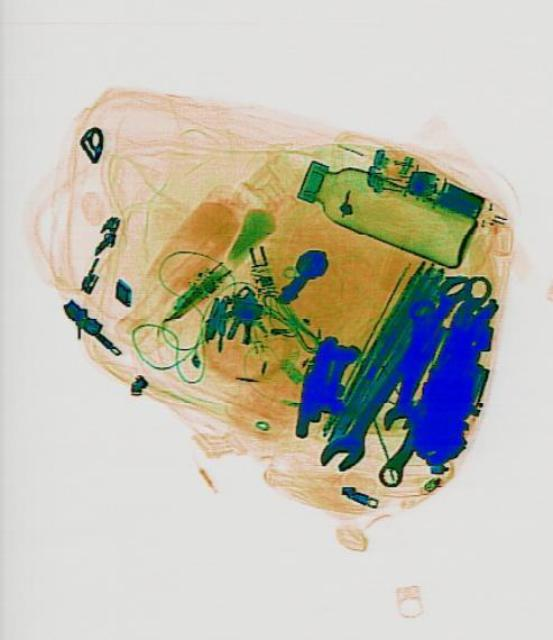Wrench: (313, 264, 478, 482), (379, 294, 437, 432)
